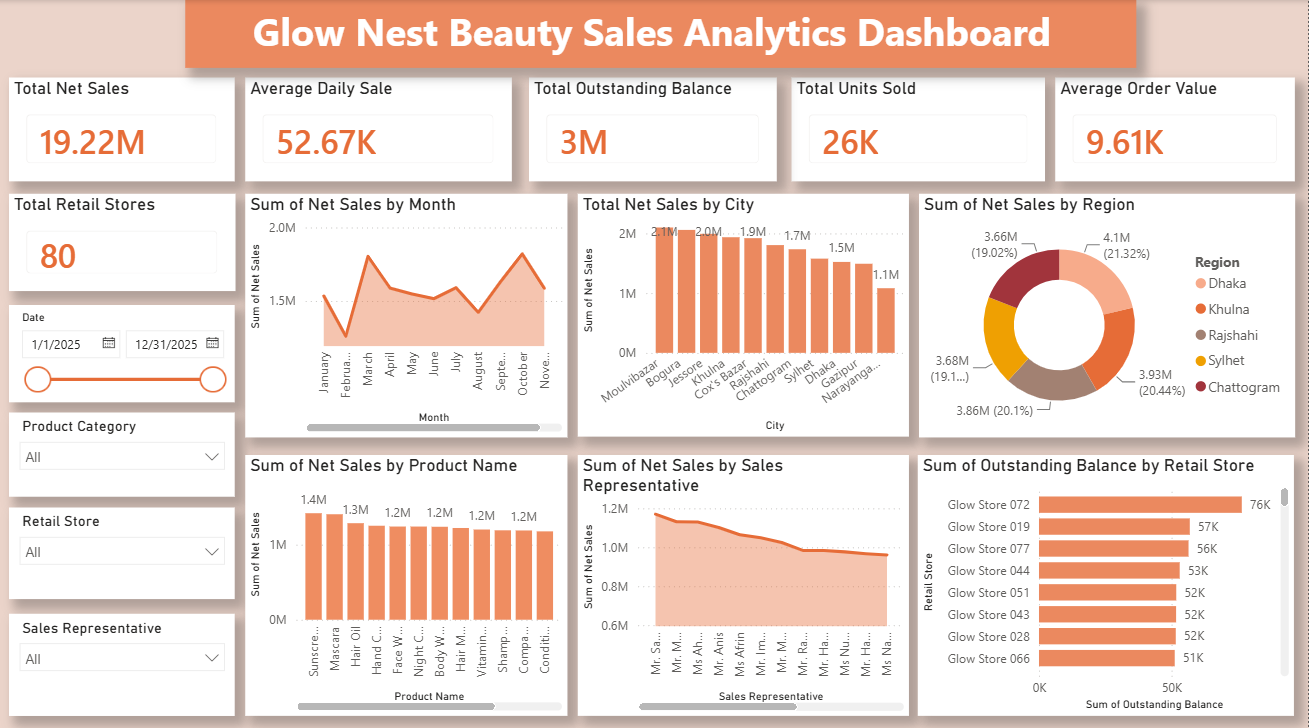

This screenshot's page, from the dashboard's own definition file:
{"tool":"powerbi","page":{"name":"Page 1","canvas":[1280,720],"ordinal":0},"visuals":[{"type":"cardVisual","title":"Total Net Sales","fields":{"Data":["Sum(SalesData.Net Sales)"]},"box":[10,75.5,220.9,101.2],"z":0},{"type":"cardVisual","title":"Total Units Sold","fields":{"Data":["Sum(SalesData.Units Sold)"]},"box":[775.4,75.5,248,101.2],"z":1000},{"type":"cardVisual","title":"Total Retail Stores","fields":{"Data":["SalesData.Total Retail Store"]},"box":[9.8,189.5,221.3,95.4],"z":2000},{"type":"cardVisual","title":"Average Daily Sale","fields":{"Data":["SalesData.Average Daily Sale"]},"box":[240.9,75.5,260.8,101.2],"z":3000},{"type":"cardVisual","title":"Total Outstanding Balance","fields":{"Data":["Sum(SalesData.Outstanding Balance)"]},"box":[518.8,75.5,242.3,101.2],"z":4000},{"type":"cardVisual","title":"Average Order Value","fields":{"Data":["SalesData.Average Order Value"]},"box":[1033.1,75.6,234,101.3],"z":5000},{"type":"slicer","fields":{"Values":["SalesData.Date"]},"box":[10,297.9,220.9,95.5],"z":6000},{"type":"slicer","fields":{"Values":["SalesData.Product Category"]},"box":[10,403.4,220.9,82.7],"z":7000},{"type":"slicer","fields":{"Values":["SalesData.Retail Store"]},"box":[10,496,220.9,89.8],"z":8000},{"type":"slicer","fields":{"Values":["SalesData.Sales Representative"]},"box":[10,600.1,220.9,99.8],"z":9000},{"type":"textbox","box":[182.2,0,930.6,66],"z":10000},{"type":"lineChart","fields":{"Category":["SalesData.Date.Variation.Date Hierarchy.Month"],"Y":["Sum(SalesData.Net Sales)"]},"box":[240.9,189.6,315,238],"z":11000},{"type":"columnChart","title":"Total Net Sales by City","fields":{"Category":["SalesData.City"],"Y":["Sum(SalesData.Net Sales)"]},"box":[566,189.6,324.2,237.6],"z":12000},{"type":"donutChart","fields":{"Category":["SalesData.Region"],"Y":["Sum(SalesData.Net Sales)"]},"box":[899.4,189.6,367.8,238],"z":13000},{"type":"columnChart","fields":{"Category":["SalesData.Product Name"],"Y":["Sum(SalesData.Net Sales)"]},"box":[240.9,444.7,315,255.1],"z":14000},{"type":"lineChart","fields":{"Category":["SalesData.Sales Representative"],"Y":["Sum(SalesData.Net Sales)"]},"box":[566,445.1,324.2,255.5],"z":15000},{"type":"barChart","fields":{"Category":["SalesData.Retail Store"],"Y":["Sum(SalesData.Outstanding Balance)"]},"box":[899,445.2,368.2,255.4],"z":16000}]}

Visuals, with their boxes in screenshot pixels (x1, y1, x2, y2), scaled from the page's 1280x720 canvas onto the 1309x728 screenshot:
"Total Net Sales" cardVisual: box(10, 76, 236, 179)
"Total Units Sold" cardVisual: box(793, 76, 1047, 179)
"Total Retail Stores" cardVisual: box(10, 192, 236, 288)
"Average Daily Sale" cardVisual: box(246, 76, 513, 179)
"Total Outstanding Balance" cardVisual: box(531, 76, 778, 179)
"Average Order Value" cardVisual: box(1057, 76, 1296, 179)
slicer - SalesData.Date: box(10, 301, 236, 398)
slicer - SalesData.Product Category: box(10, 408, 236, 492)
slicer - SalesData.Retail Store: box(10, 502, 236, 592)
slicer - SalesData.Sales Representative: box(10, 607, 236, 708)
textbox: box(186, 0, 1138, 67)
lineChart - SalesData.Date.Variation.Date Hierarchy.Month x Sum(SalesData.Net Sales): box(246, 192, 568, 432)
"Total Net Sales by City" columnChart: box(579, 192, 910, 432)
donutChart - SalesData.Region x Sum(SalesData.Net Sales): box(920, 192, 1296, 432)
columnChart - SalesData.Product Name x Sum(SalesData.Net Sales): box(246, 450, 568, 708)
lineChart - SalesData.Sales Representative x Sum(SalesData.Net Sales): box(579, 450, 910, 708)
barChart - SalesData.Retail Store x Sum(SalesData.Outstanding Balance): box(919, 450, 1296, 708)
